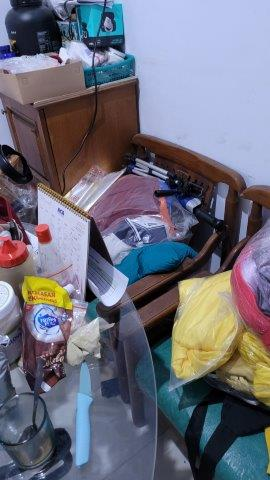plastik: (182, 267, 270, 392)
